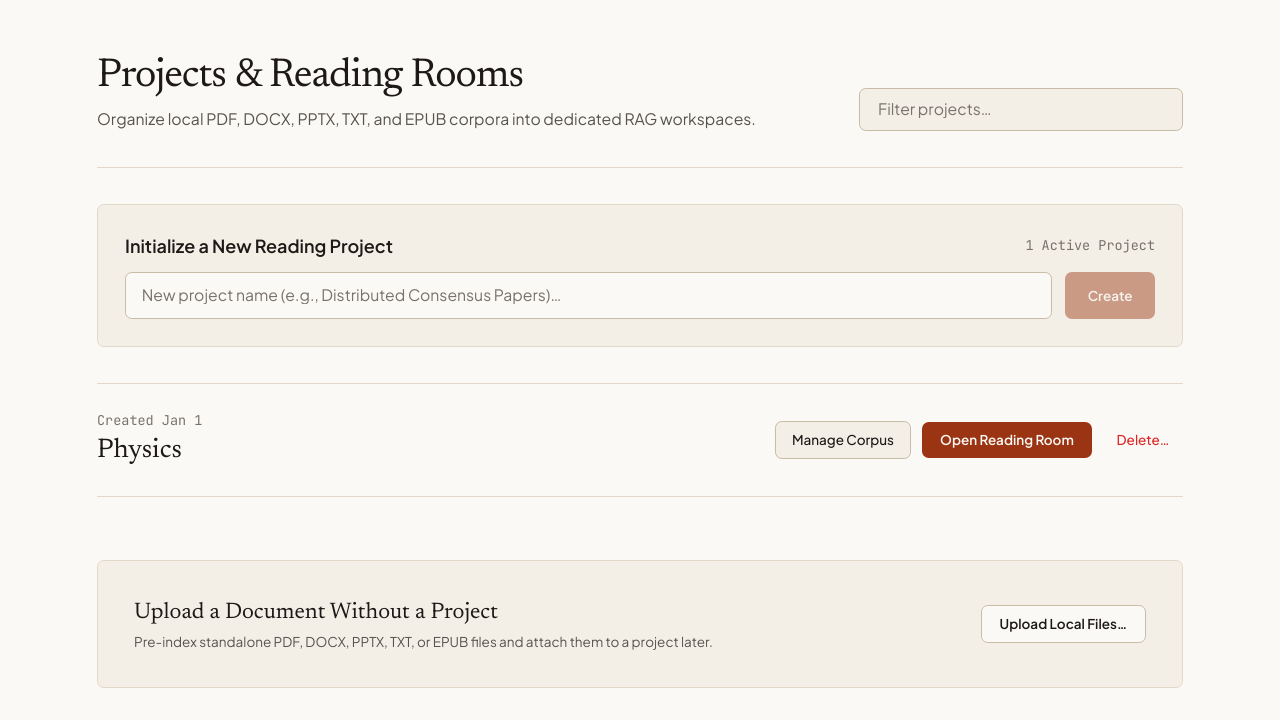
Test: ProjectsListScreen › cancels a project delete confirmation without deleting
Click the button "Delete…" at (1143, 440), box [1103,422,1183,458]
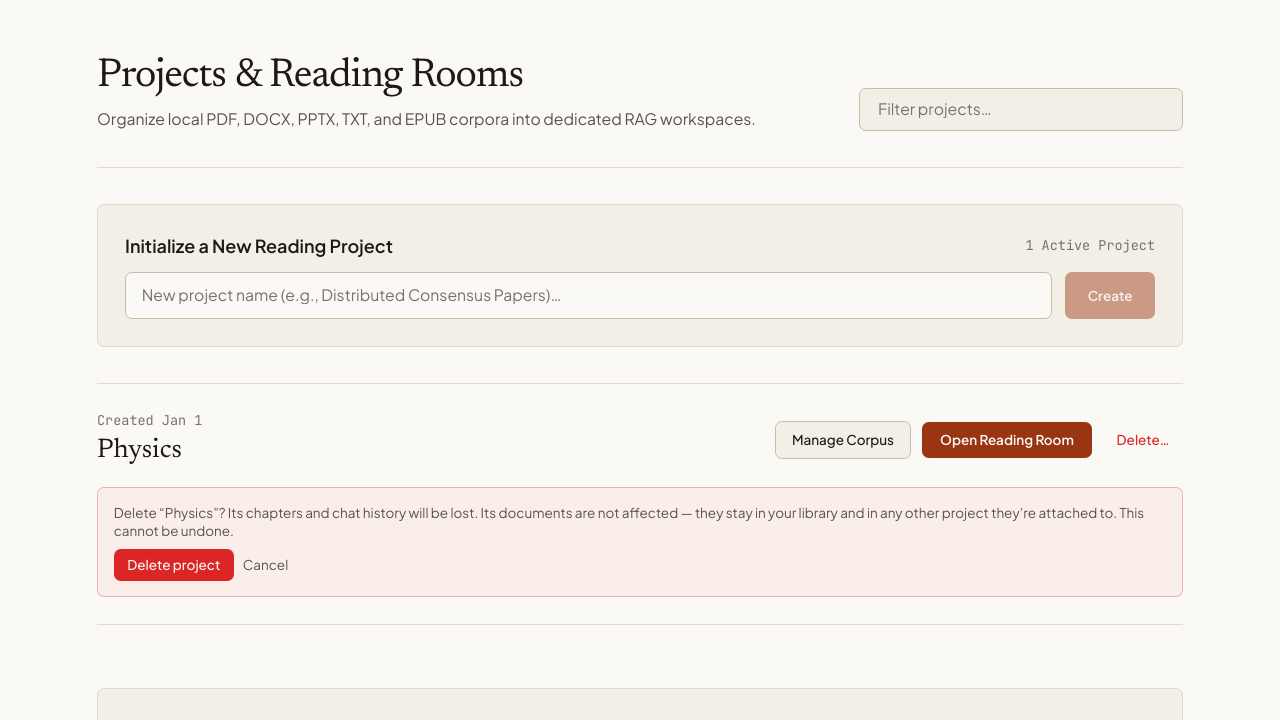
Click the button "Cancel" at (266, 565), box [243,556,288,574]
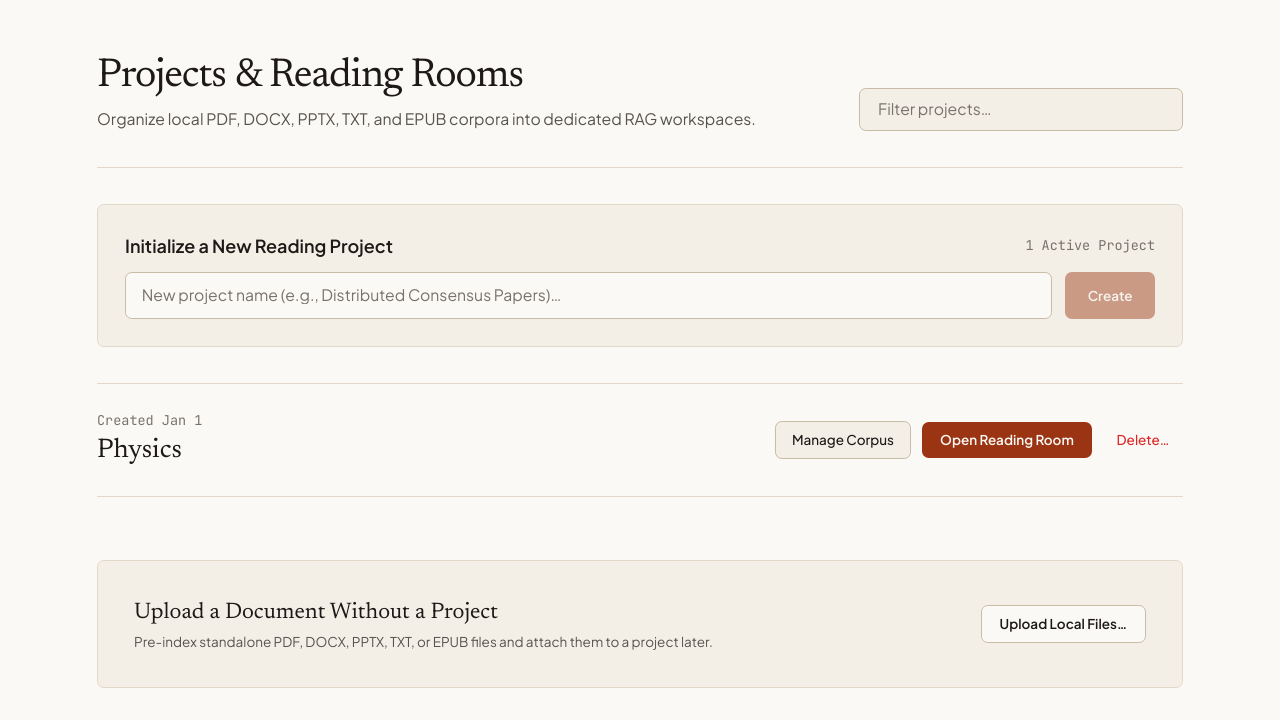
Now the text "Its documents are not affected" is gone
